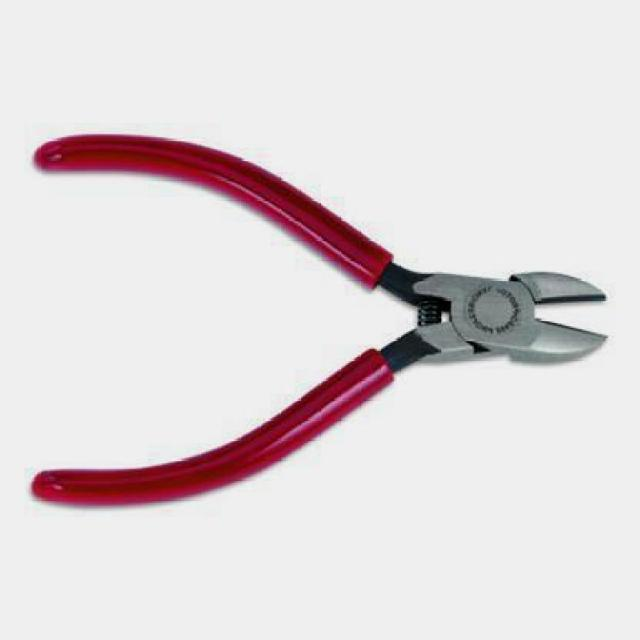pliers: (32, 136, 610, 510)
